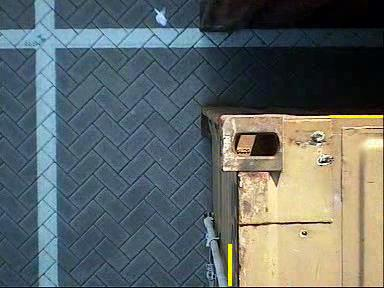groundmarker_2: (90, 108, 188, 162)
